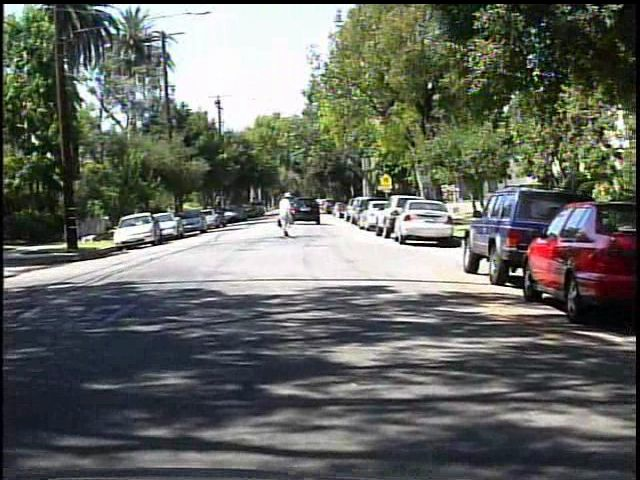person: (273, 192, 300, 241)
